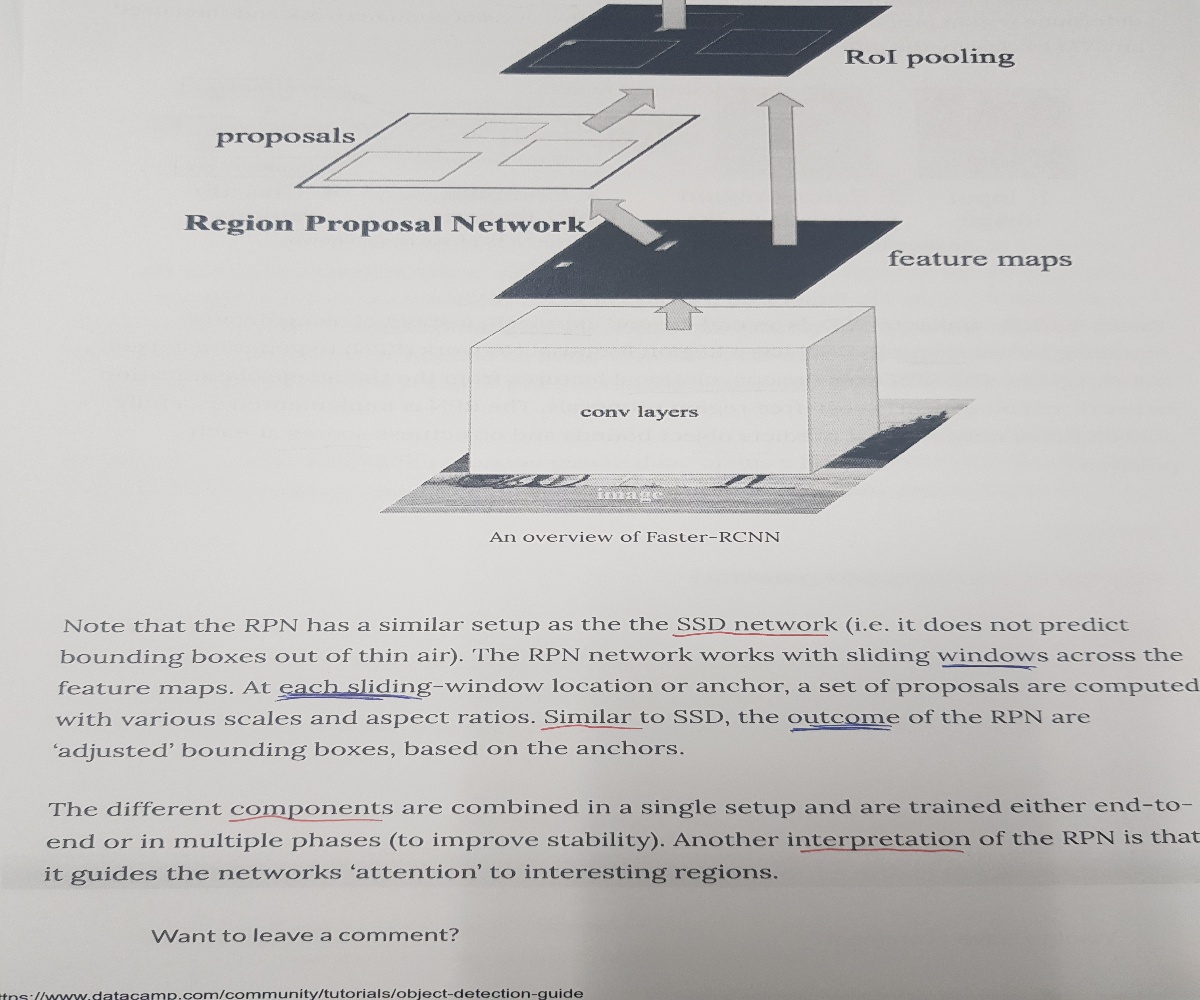underline: (272, 691, 425, 707), (796, 846, 967, 860), (668, 628, 827, 643), (225, 813, 383, 828), (537, 720, 644, 735), (788, 723, 896, 736), (937, 661, 1037, 673)
